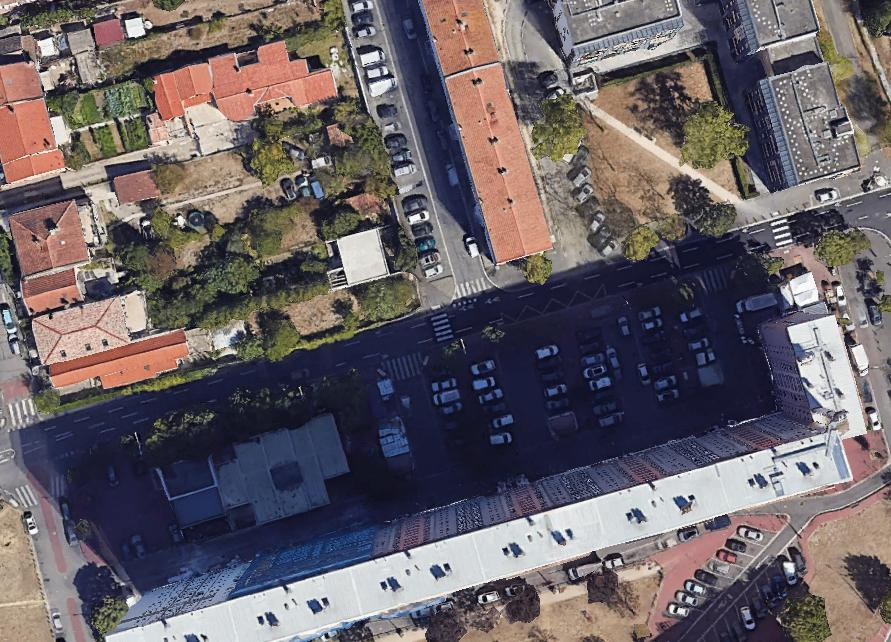immeuble: (95, 388, 852, 642), (412, 0, 553, 267), (713, 0, 864, 193), (752, 298, 871, 455), (549, 0, 687, 70)
maison: (149, 32, 337, 137), (30, 284, 192, 403), (2, 199, 101, 316), (0, 55, 66, 183)
